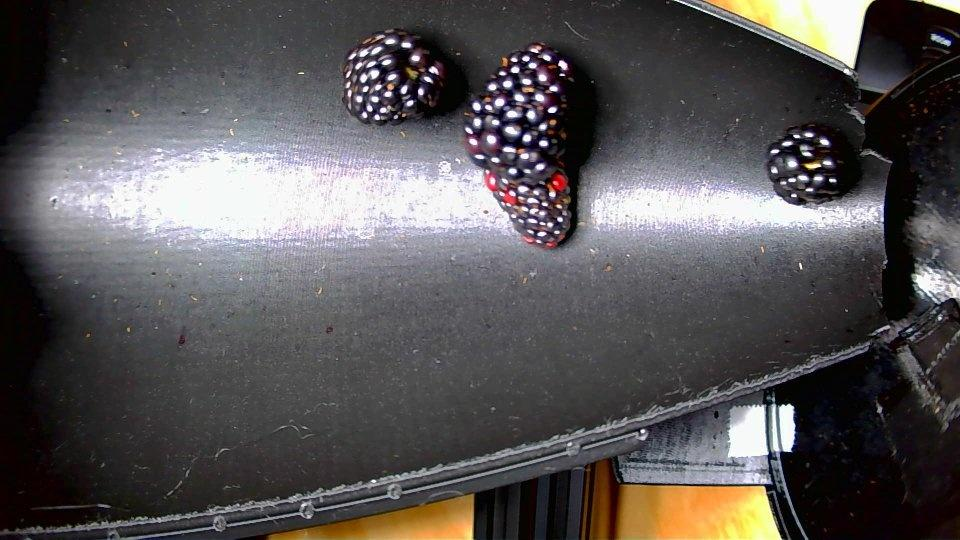berry: (467, 43, 572, 181), (342, 29, 444, 123), (765, 124, 856, 204), (485, 171, 572, 247)
